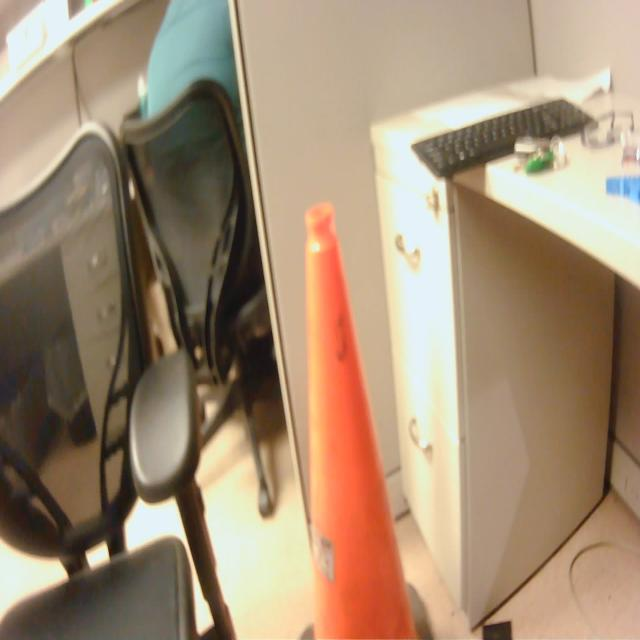traffic cone: (292, 196, 448, 640)
